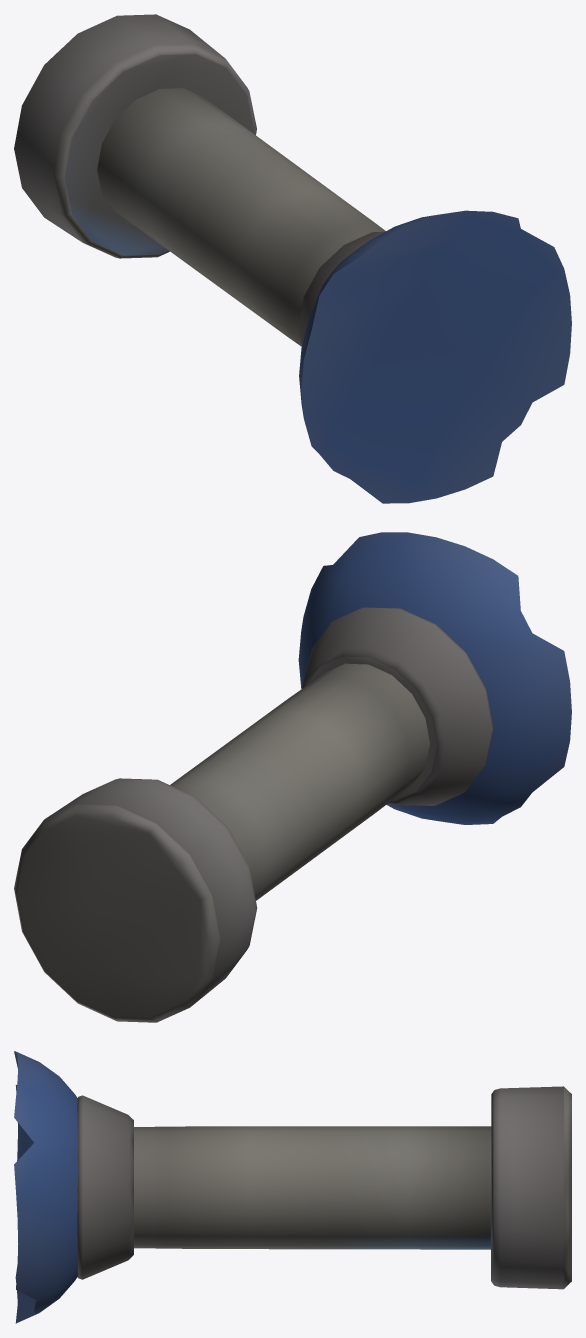
File: quest-blue-upper-right.glb
3 views of the same model, one above another, from view 1: azimuth 30°, elevation 25°; view 2: azimuth 150°, elevation 25°; view 3: azimuth 270°, elevation 25° (orthographic). The views are drawn at different scales.
Visible parts, largest first — view 1: quest-blue-upper-right; view 2: quest-blue-upper-right; view 3: quest-blue-upper-right.
Boxes of the visible parts, bbox=[...] form: quest-blue-upper-right: bbox=[14, 14, 571, 503]; quest-blue-upper-right: bbox=[14, 532, 571, 1022]; quest-blue-upper-right: bbox=[14, 1051, 571, 1323].
Bounding box in the file's own units: 0.0886 × 0.0886 × 0.1849.
1 material, 1 textured.
